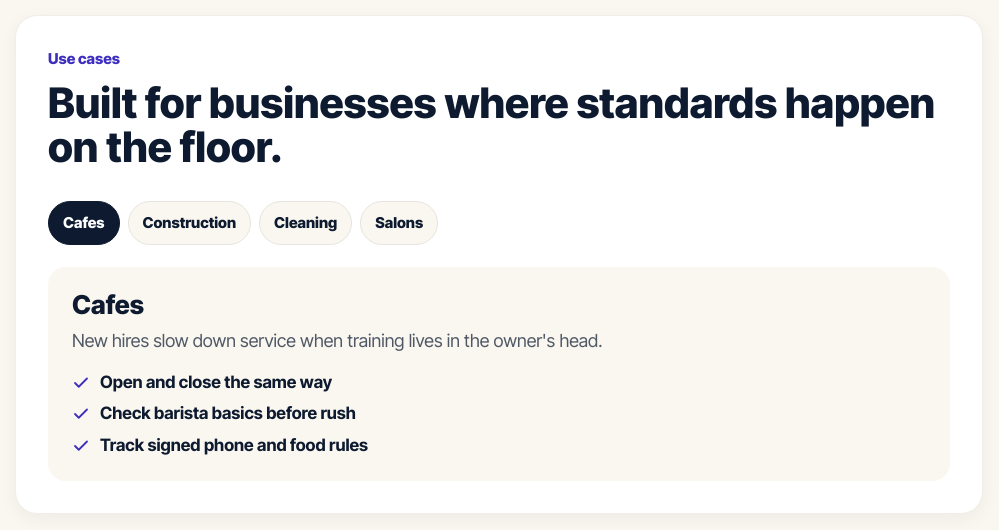
UseCases › switches use-case detail when a different tab is selected
Click the tab "Construction" at (189, 223), box [128, 201, 251, 245]
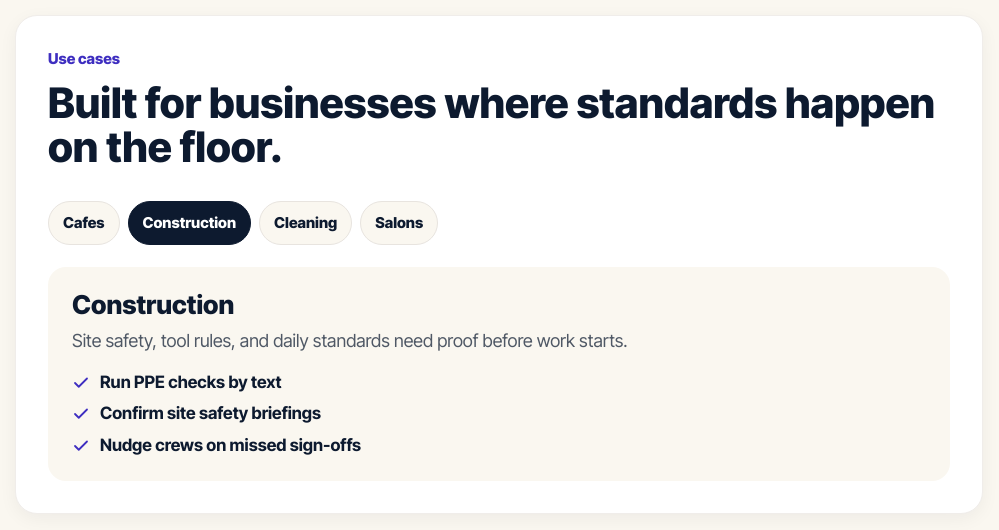
Expected: the list item "Confirm site safety briefings" is shown, [72, 403, 321, 423]
